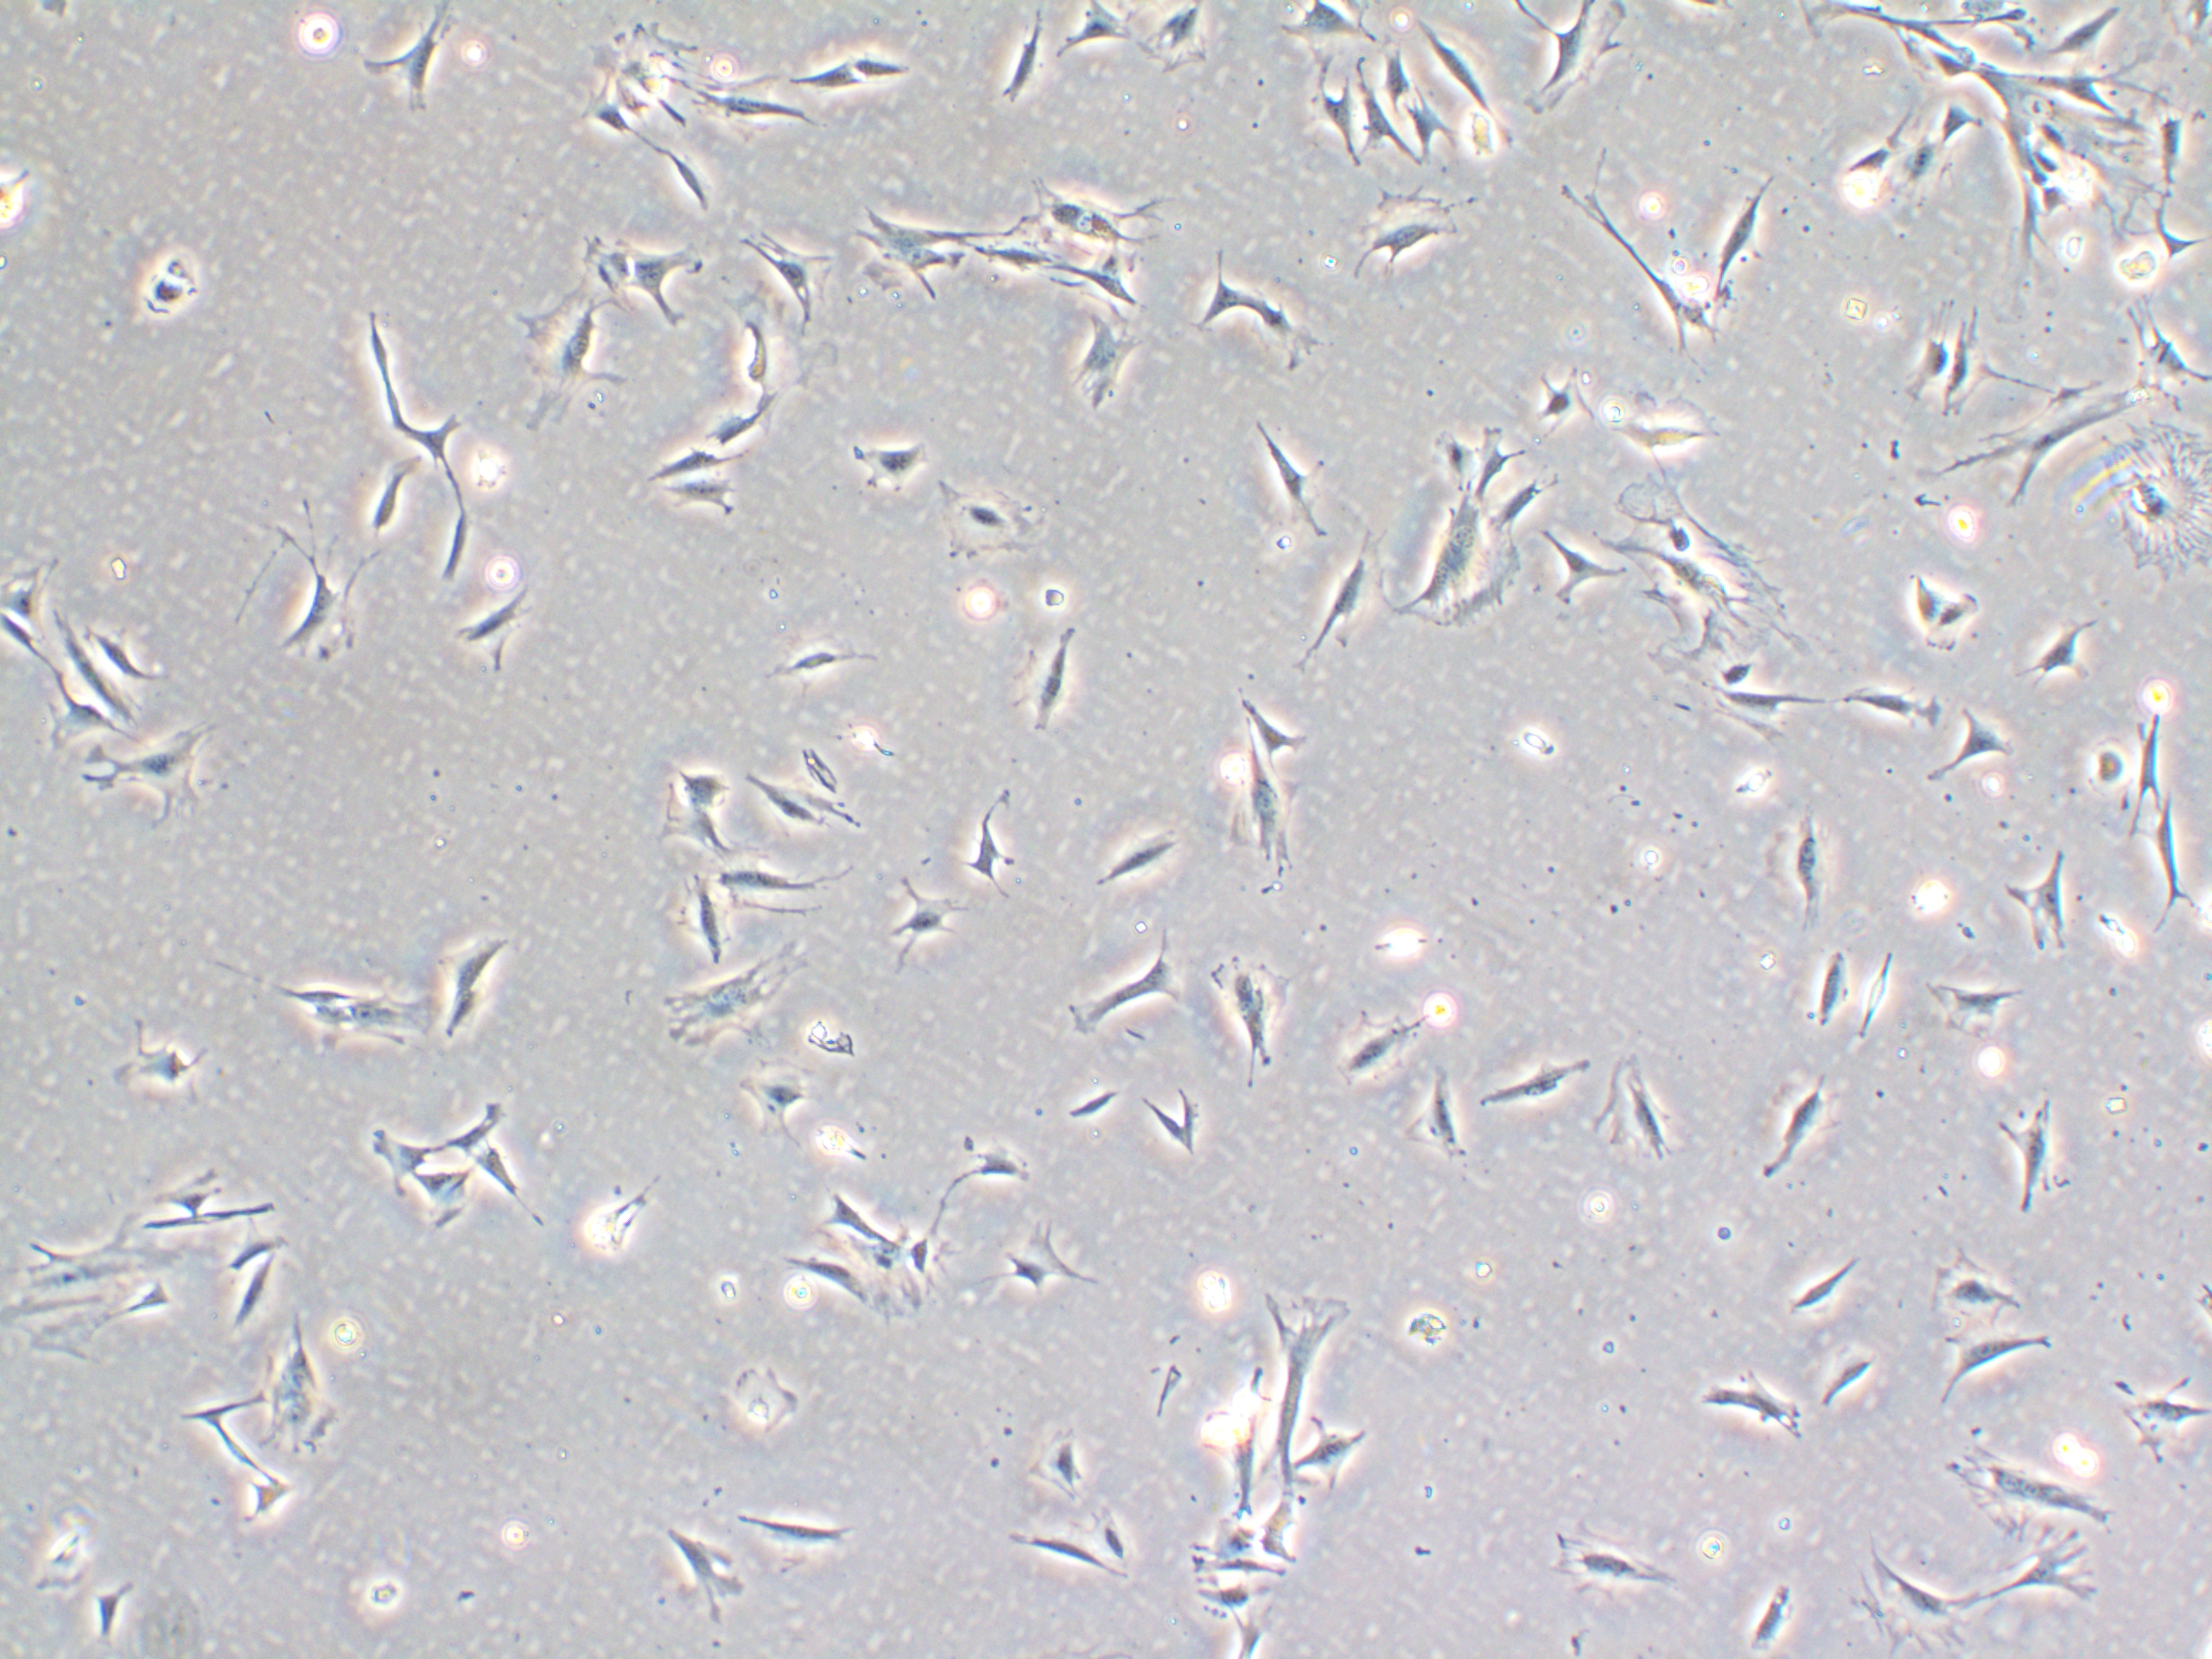small: (2076, 732, 2139, 807), (1047, 1073, 1123, 1133), (1137, 1079, 1179, 1155)
spread: (1581, 476, 1815, 669), (0, 1220, 192, 1370), (1385, 477, 1536, 640), (655, 941, 819, 1070), (495, 263, 608, 436), (2101, 427, 2212, 601), (556, 9, 700, 138)
